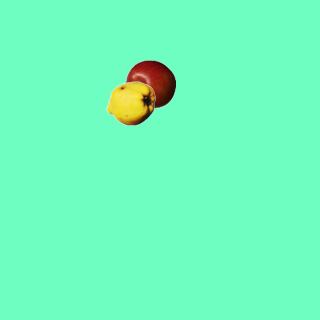Apple Braeburn: (125, 59, 175, 109)
Quince: (105, 78, 155, 128)
